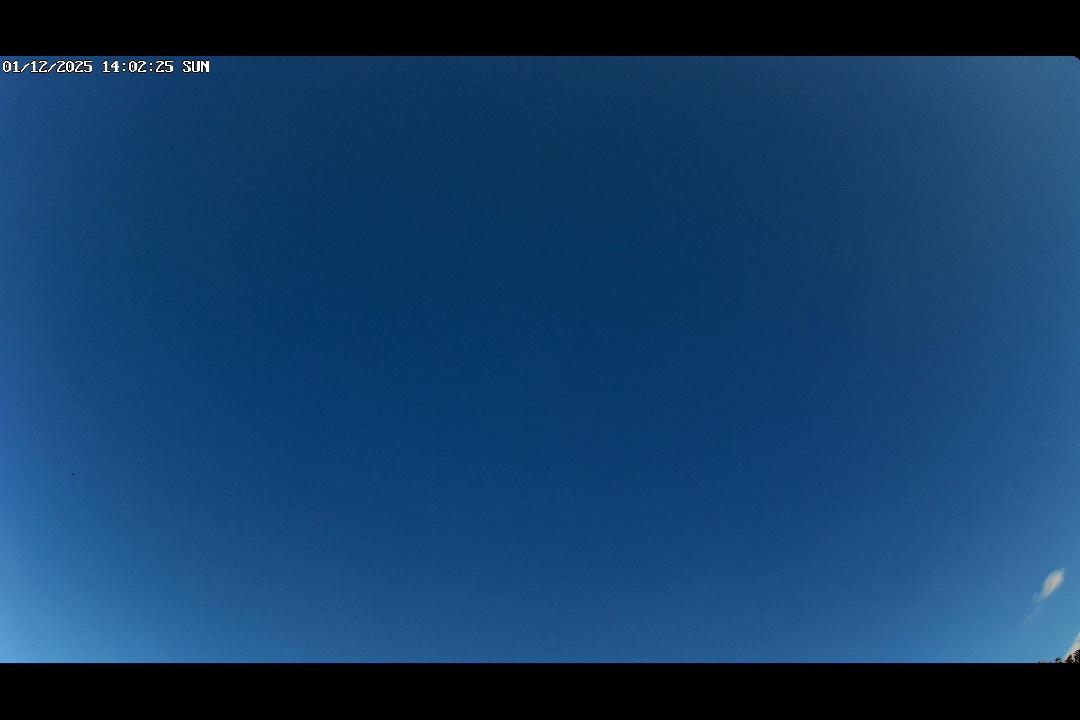WildLife: (63, 466, 84, 482)
